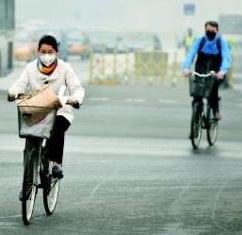person: (7, 31, 92, 223), (181, 18, 229, 150)
